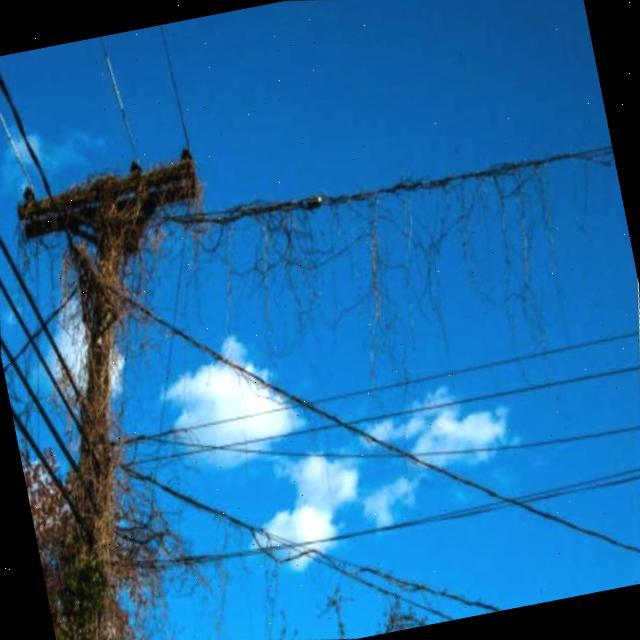critical vegetation: (0, 127, 294, 640), (160, 92, 602, 338)
